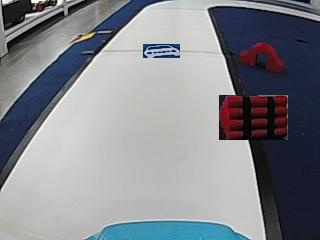bridge: (239, 42, 281, 70)
